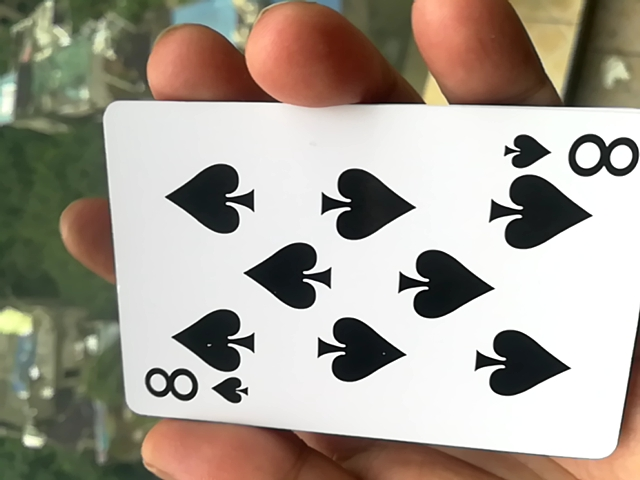ht 8: (93, 99, 636, 466)
